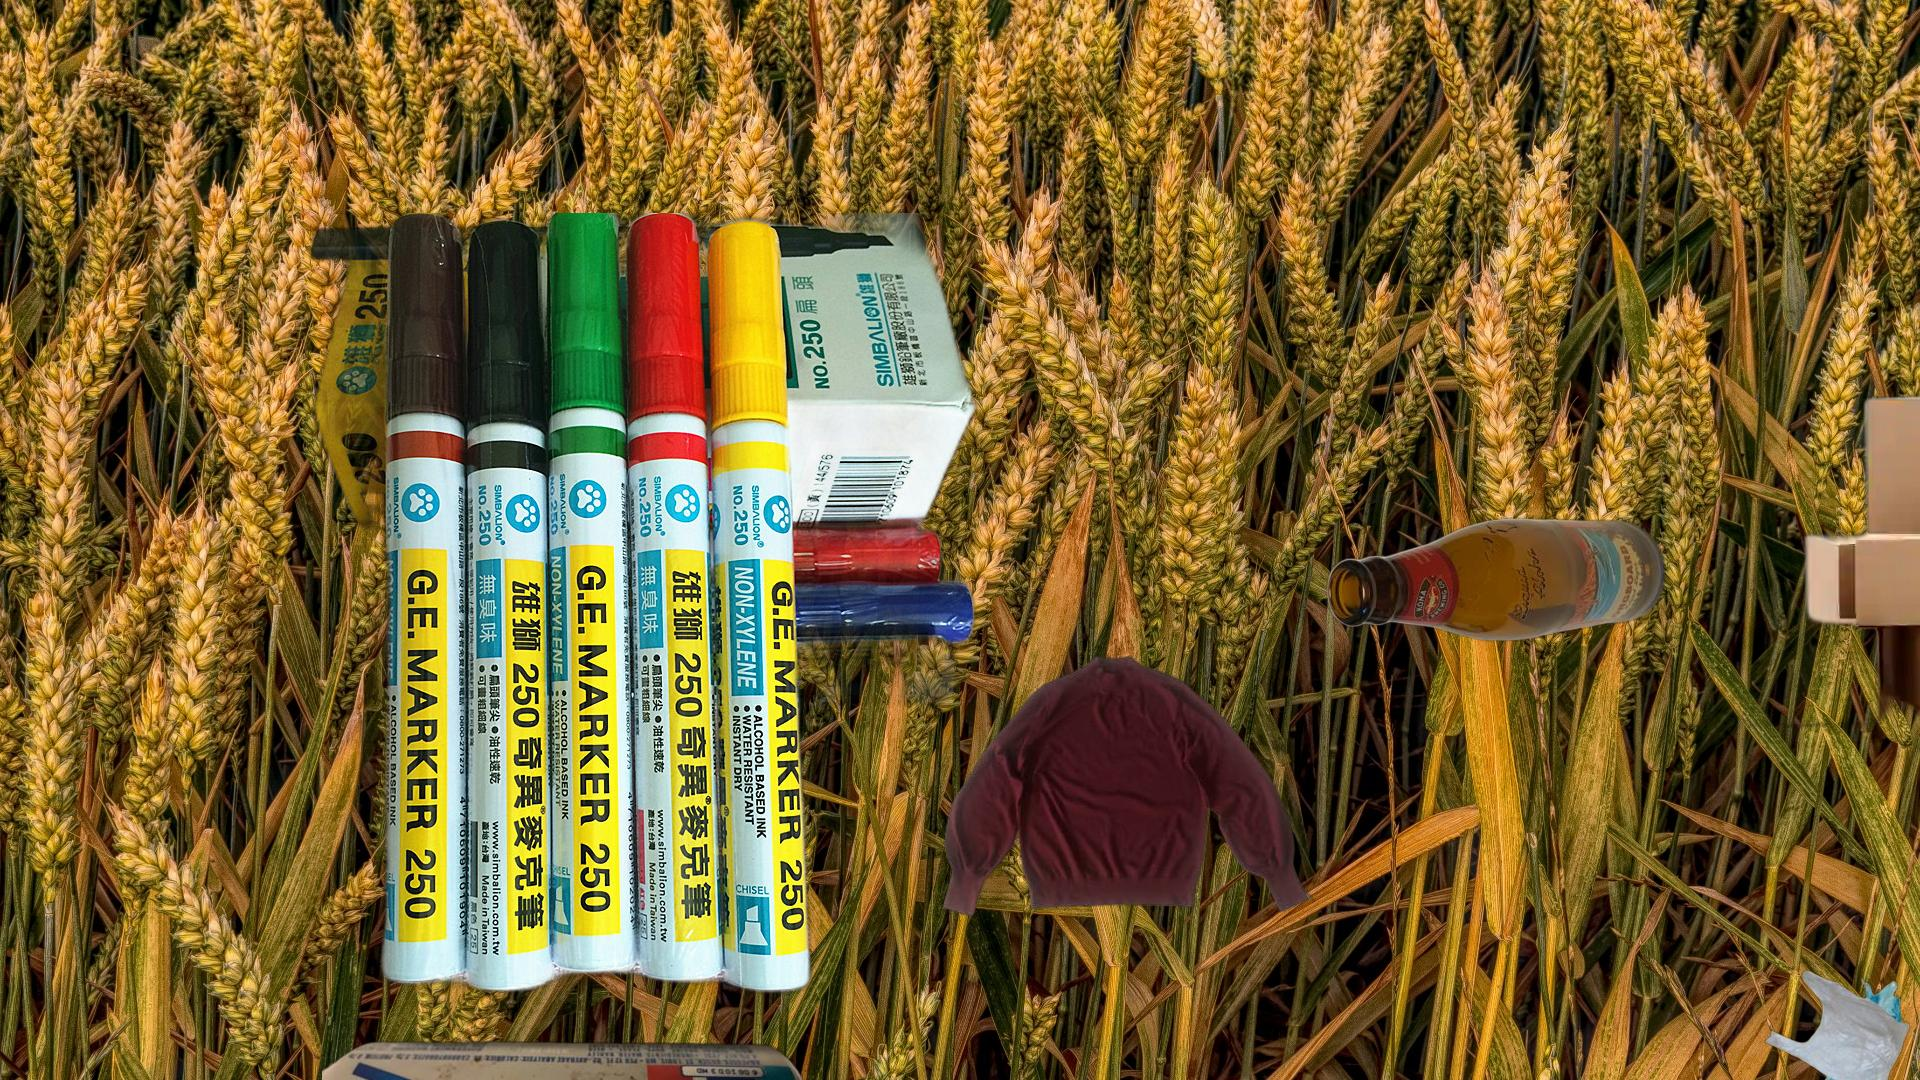clothes: (938, 651, 1315, 920)
glass: (1323, 516, 1669, 644)
metal-cans: (322, 1039, 833, 1080)
penholder: (293, 214, 982, 1013)
plastic-bag: (1763, 967, 1912, 1080)
trashbox-cardboard: (1720, 386, 1920, 744)
